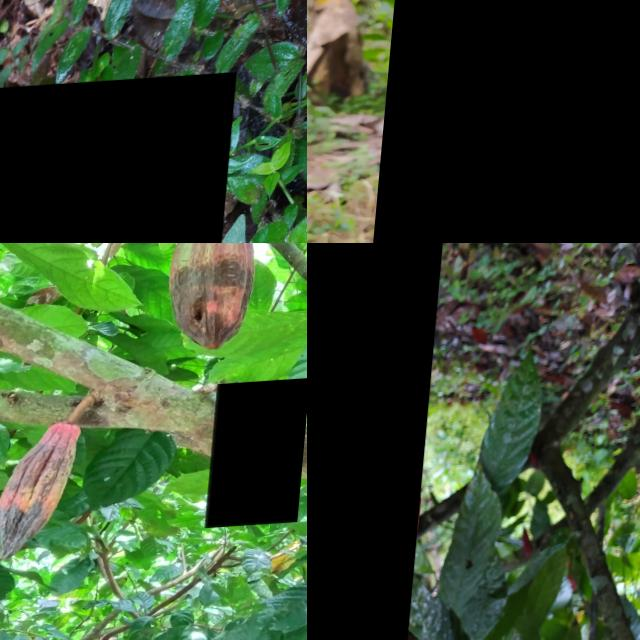Fitoftora: (0, 420, 101, 566), (212, 384, 307, 533), (164, 243, 262, 356)
Monilia: (307, 243, 452, 640), (0, 80, 240, 243)
Sana: (371, 0, 640, 243)
